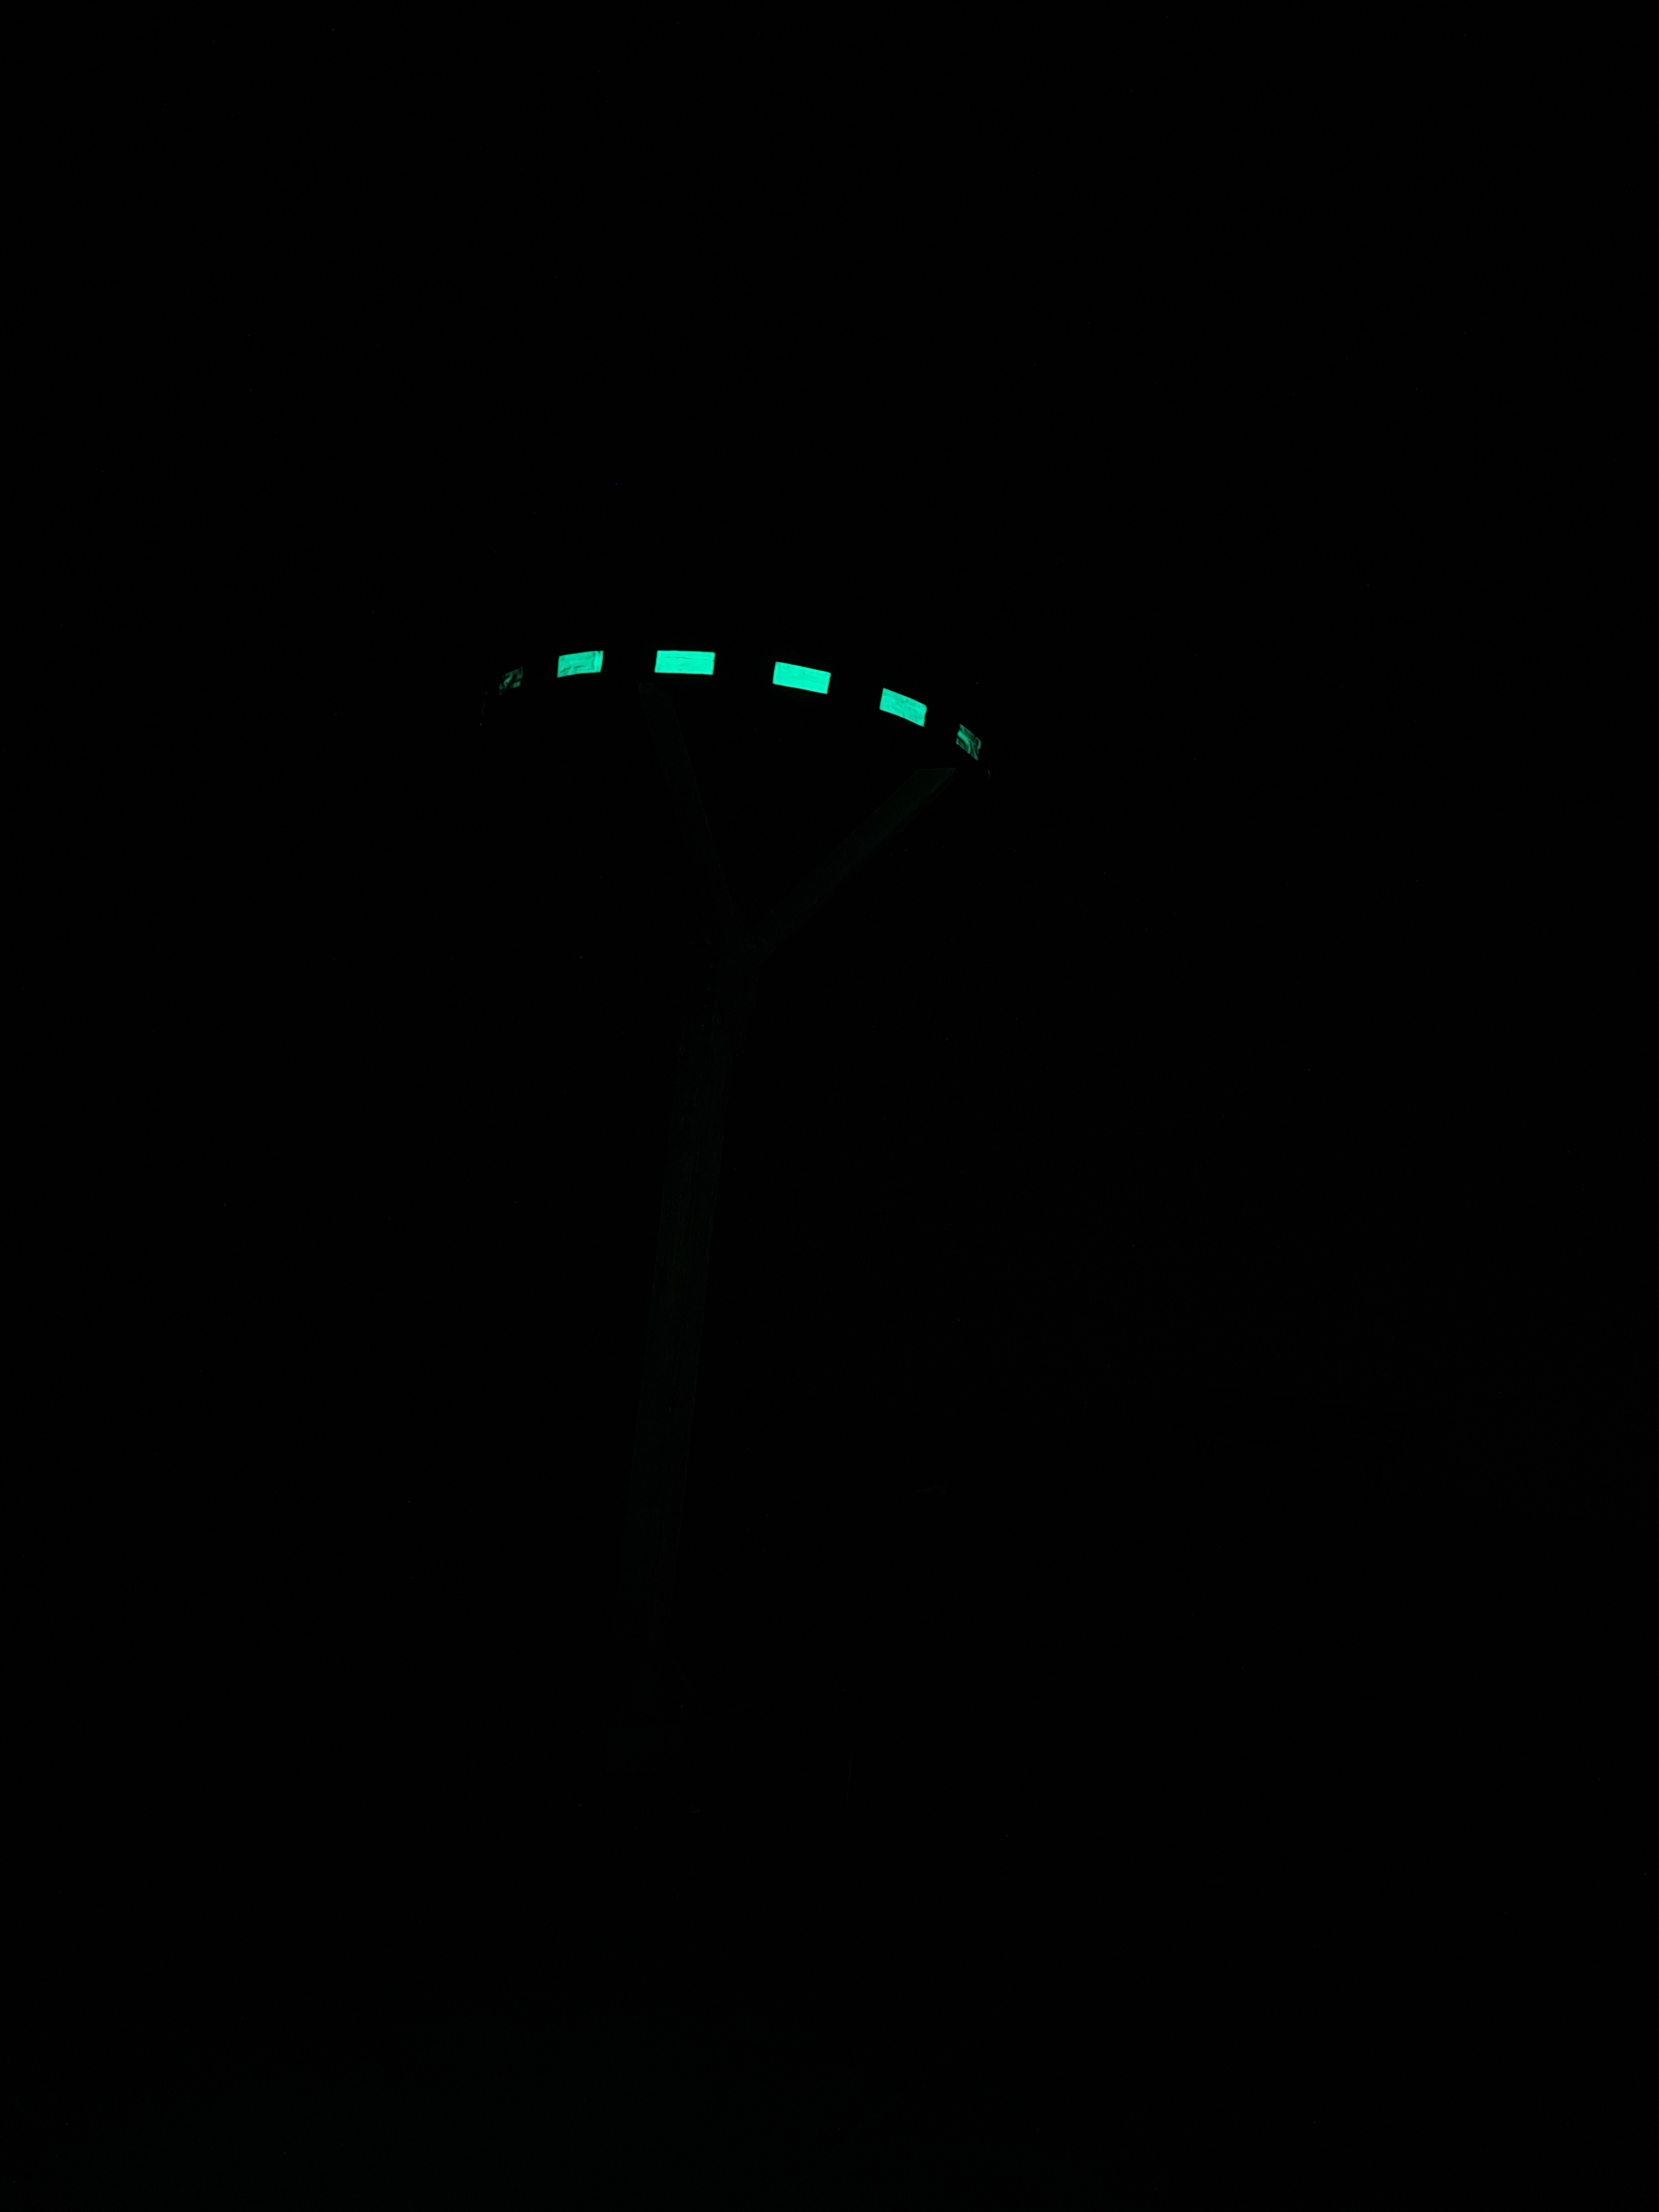hoop: (474, 631, 1000, 780)
